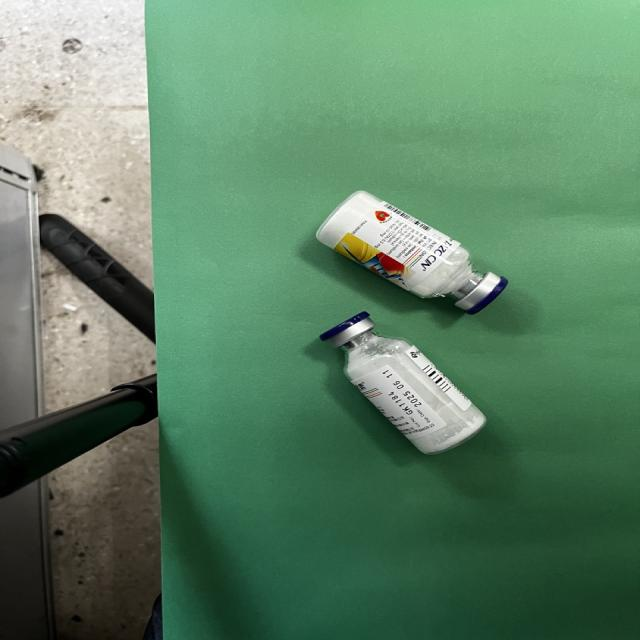Vials: (319, 312, 486, 454), (316, 191, 507, 314)
